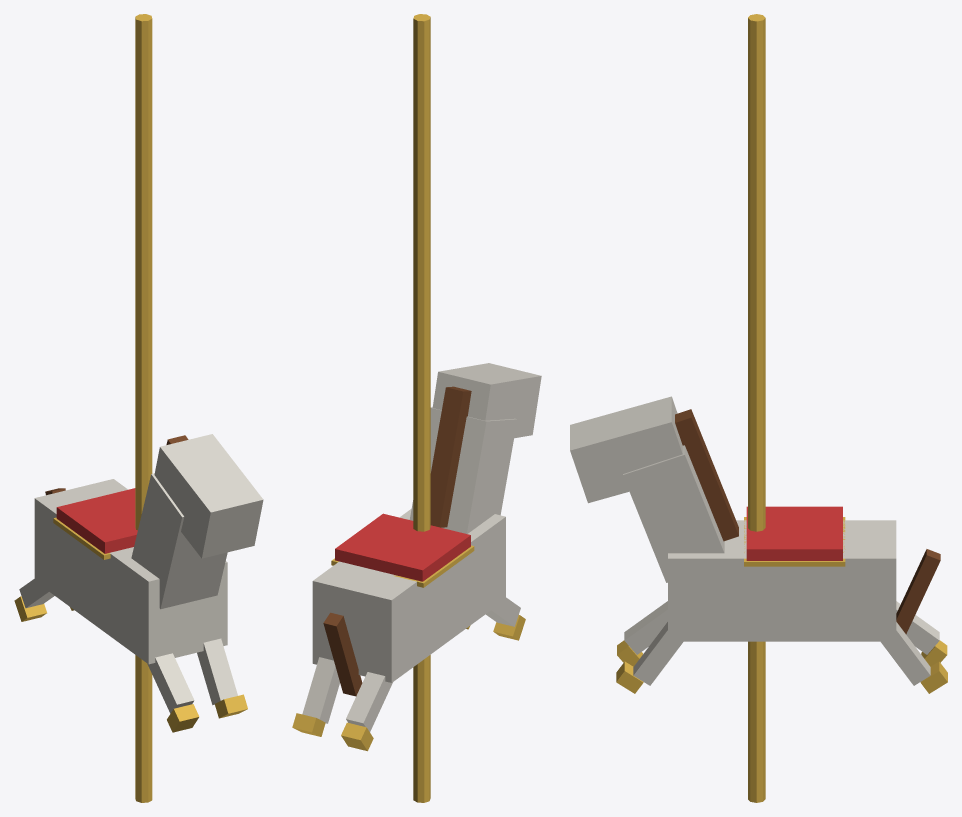
The model's file is fair_horse.glb.
The picture shows the model from 3 angles, left to right: view 1: azimuth 30°, elevation 25°; view 2: azimuth 150°, elevation 25°; view 3: azimuth 270°, elevation 25°; orthographic projection.
Parts seen in each view (by area): view 1: body_fair_white, pole_fair_gold, head_fair_white, neck_fair_white, legs_fair_white, saddle_fair_red, legs_fair_gold; view 2: body_fair_white, pole_fair_gold, neck_fair_white, saddle_fair_red, head_fair_white, legs_fair_white, mane_horse_mane, tail_horse_mane, legs_fair_gold, saddle_fair_gold; view 3: body_fair_white, pole_fair_gold, head_fair_white, neck_fair_white, saddle_fair_red, legs_fair_white, mane_horse_mane, legs_fair_gold, tail_horse_mane, saddle_fair_gold.
Boxes of the visible parts, x1,y1,x2,y2 form: body_fair_white: (34, 479, 227, 664); pole_fair_gold: (135, 14, 152, 802); head_fair_white: (154, 434, 263, 558); neck_fair_white: (131, 473, 227, 609); legs_fair_white: (19, 579, 237, 713); saddle_fair_red: (56, 488, 137, 553); legs_fair_gold: (14, 596, 247, 732); body_fair_white: (312, 509, 505, 682); pole_fair_gold: (413, 14, 430, 802); neck_fair_white: (409, 407, 517, 533); saddle_fair_red: (335, 513, 470, 581); head_fair_white: (432, 363, 541, 438); legs_fair_white: (302, 597, 520, 731); mane_horse_mane: (430, 386, 471, 527); tail_horse_mane: (323, 612, 362, 696); legs_fair_gold: (292, 615, 525, 751); saddle_fair_gold: (331, 545, 474, 587); body_fair_white: (668, 520, 896, 641); pole_fair_gold: (748, 14, 765, 802); head_fair_white: (570, 396, 682, 503); neck_fair_white: (623, 445, 724, 582); saddle_fair_red: (746, 506, 842, 560); legs_fair_white: (624, 601, 939, 685); mane_horse_mane: (675, 409, 738, 541); legs_fair_gold: (616, 640, 947, 693); tail_horse_mane: (896, 549, 940, 634); saddle_fair_gold: (744, 517, 845, 566).
Bounding box in the file's own units: 0.42 × 3.4 × 1.49.
